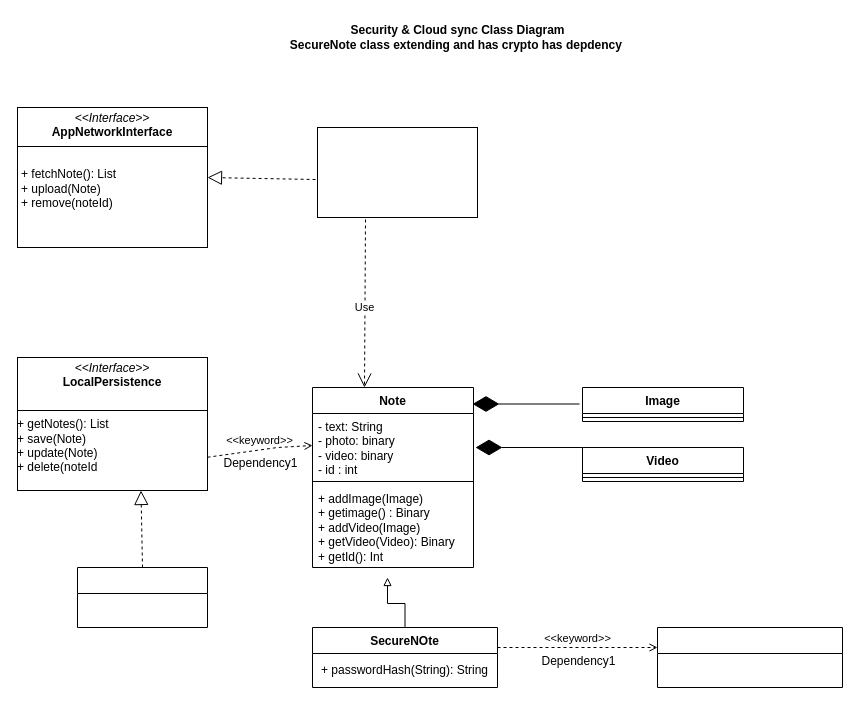
Image size: 860x705. Some labels were removed from this diagram. Each missing label, with the centre of its shape:
Crypto + hash(String): String: point 749,657
FileManager: point 142,597
NetworkManager: point 397,172
